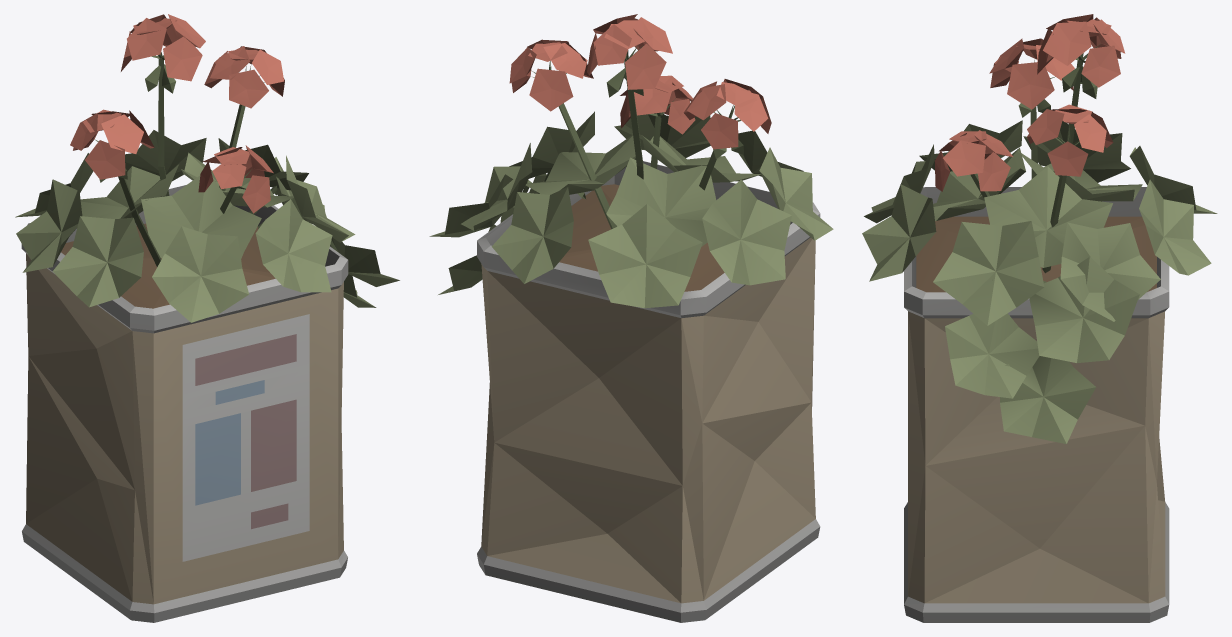
The model's file is geranium.glb.
The picture shows the model from 3 angles, left to right: view 1: azimuth 30°, elevation 25°; view 2: azimuth 150°, elevation 25°; view 3: azimuth 270°, elevation 25°; orthographic projection. The views are drawn at different scales.
Visible parts, largest first — view 1: geranium; view 2: geranium; view 3: geranium.
Boxes of the visible parts, x1=… form: geranium: x1=15, y1=14, x2=399, y2=622; geranium: x1=429, y1=14, x2=833, y2=622; geranium: x1=862, y1=14, x2=1217, y2=622.
Bounding box in the file's own units: 0.7868 × 1.18 × 0.6921.
